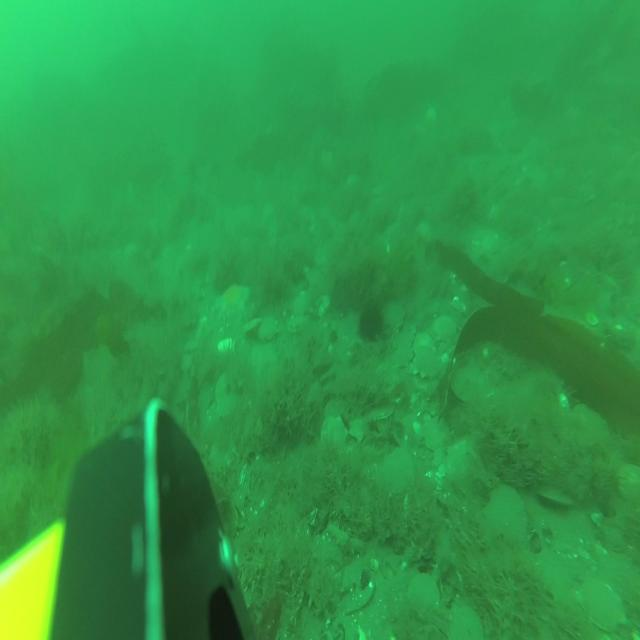echinus: (357, 304, 388, 345)
scallop: (578, 570, 625, 635), (484, 480, 528, 548), (383, 447, 416, 495), (449, 364, 483, 409), (408, 573, 440, 618), (536, 479, 575, 515), (445, 438, 476, 481), (450, 602, 484, 640), (617, 454, 640, 503), (422, 415, 450, 453), (320, 416, 348, 450), (415, 342, 438, 378), (433, 313, 458, 343), (215, 392, 240, 420), (383, 299, 405, 330), (214, 369, 235, 401), (258, 315, 279, 345), (365, 404, 398, 423), (324, 394, 347, 421), (392, 345, 414, 371), (349, 415, 369, 442), (286, 314, 308, 335), (415, 331, 435, 352), (293, 292, 309, 318), (393, 330, 413, 349), (244, 316, 263, 333), (179, 352, 193, 372), (182, 337, 199, 352)
starfish: (216, 283, 250, 325)
